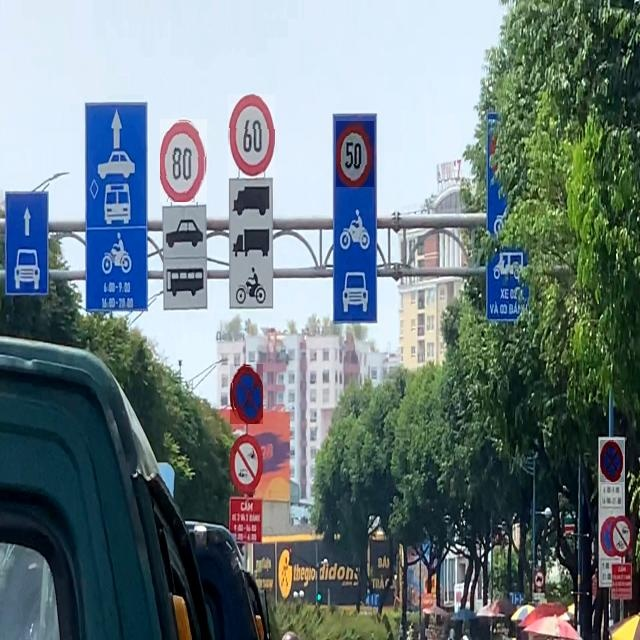bien_cam: (160, 119, 207, 202), (228, 94, 275, 177), (336, 121, 374, 187), (230, 364, 263, 424), (600, 440, 624, 482)
